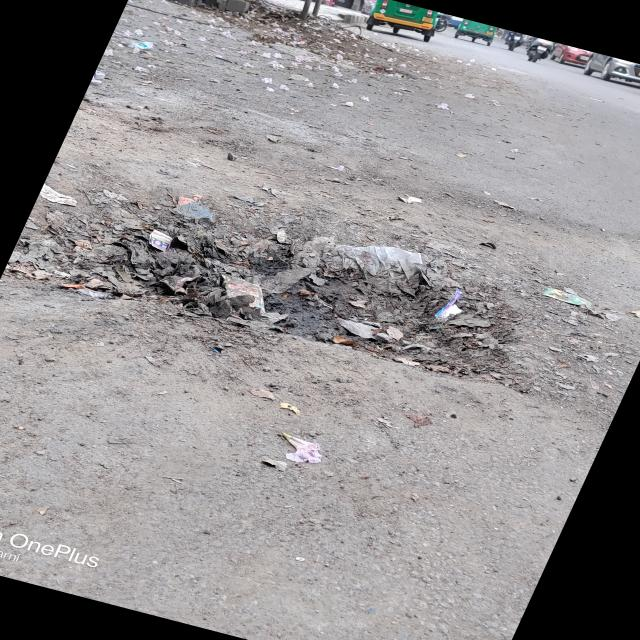potholes: (69, 173, 506, 389)
